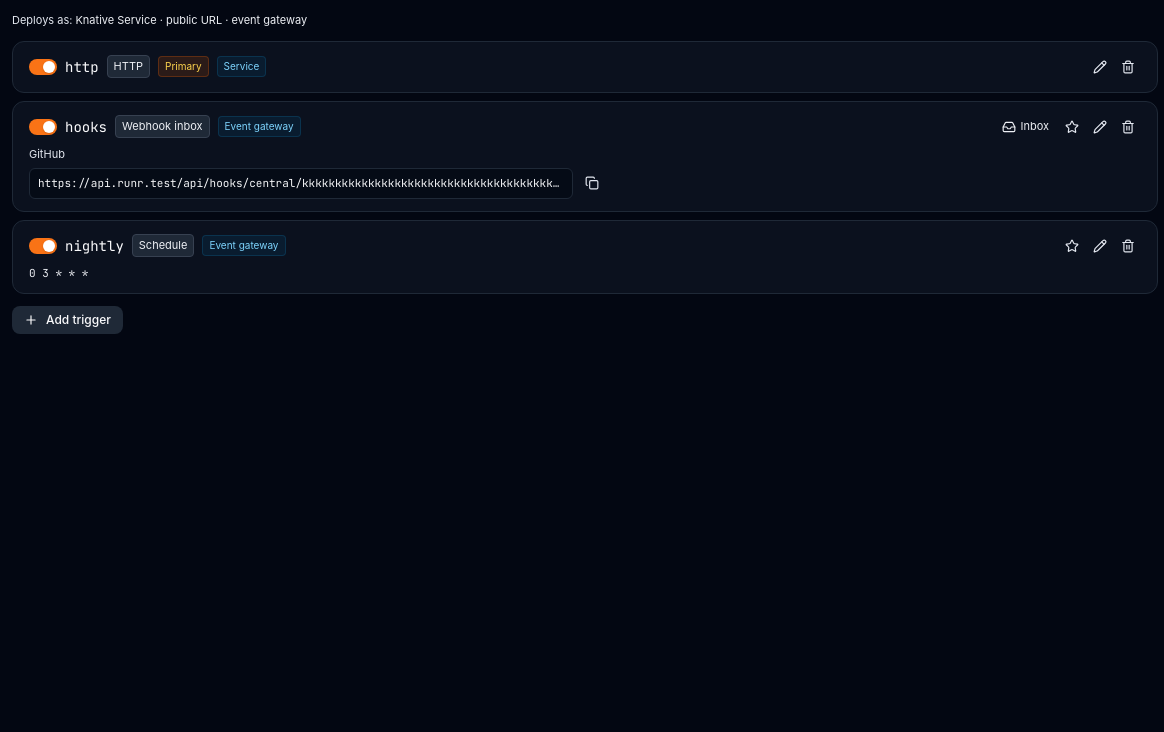
Test case: TriggerList › offers the addable types with the reason of the others
This screenshot has width=1164, height=732.
Click the button "Add trigger" at (67, 320), box x1=12 y1=306 x2=123 y2=334
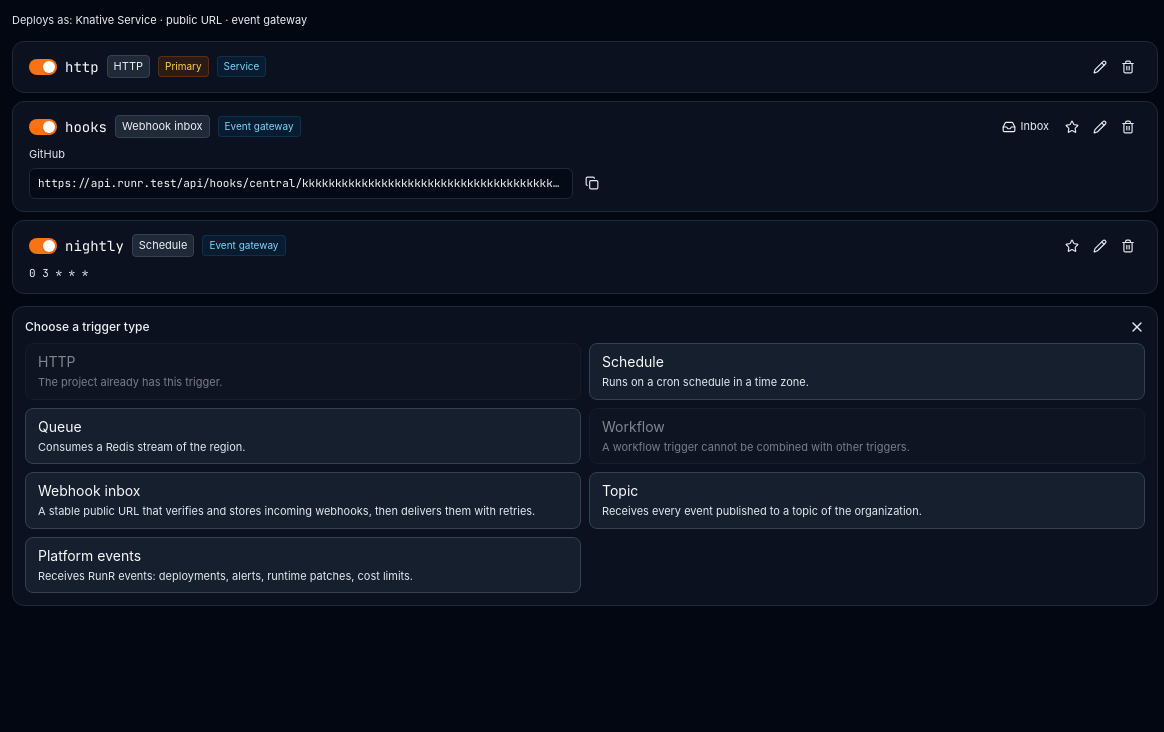
Result: the button "HTTP The project already has this trigger." is disabled at x1=25 y1=343 x2=581 y2=400
Result: the button "HTTP The project already has this trigger." is shown at x1=25 y1=343 x2=581 y2=400
Result: the button with aria-label "A workflow trigger cannot be combined with other triggers." shows "cannot be combined" at x1=589 y1=408 x2=1145 y2=464
